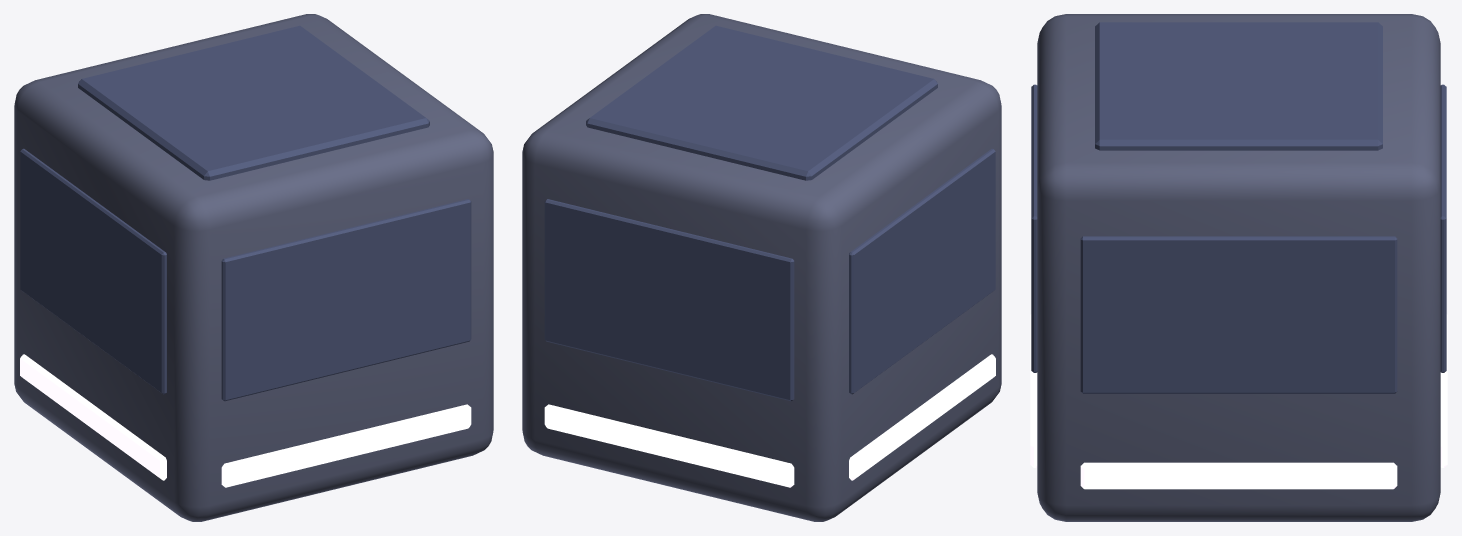
File: Slider.fbx
The picture shows the model from 3 angles, left to right: view 1: azimuth 30°, elevation 25°; view 2: azimuth 150°, elevation 25°; view 3: azimuth 270°, elevation 25°; orthographic projection. The views are drawn at different scales.
Visible parts, largest first — view 1: Body, Panel0, Top, Panel2, Strip0, Strip2; view 2: Body, Panel1, Top, Panel2, Strip1, Strip2; view 3: Body, Panel3, Top, Strip3, Panel0, Panel1, Strip0, Strip1.
Part boxes in pixels (x1=…): Body: x1=14, y1=14, x2=493, y2=521; Panel0: x1=221, y1=199, x2=471, y2=401; Top: x1=78, y1=25, x2=429, y2=180; Panel2: x1=20, y1=148, x2=166, y2=394; Strip0: x1=221, y1=404, x2=471, y2=487; Strip2: x1=20, y1=354, x2=166, y2=480; Body: x1=522, y1=14, x2=1001, y2=521; Panel1: x1=544, y1=199, x2=794, y2=401; Top: x1=586, y1=25, x2=937, y2=180; Panel2: x1=849, y1=148, x2=995, y2=394; Strip1: x1=544, y1=404, x2=794, y2=487; Strip2: x1=849, y1=354, x2=995, y2=480; Body: x1=1037, y1=14, x2=1440, y2=521; Panel3: x1=1080, y1=236, x2=1397, y2=393; Top: x1=1095, y1=22, x2=1382, y2=150; Strip3: x1=1080, y1=462, x2=1397, y2=489; Panel0: x1=1031, y1=84, x2=1037, y2=372; Panel1: x1=1440, y1=84, x2=1446, y2=372; Strip0: x1=1030, y1=314, x2=1037, y2=467; Strip1: x1=1440, y1=314, x2=1447, y2=467.
Bounding box in the file's own units: 0.87 × 0.84 × 0.87.
